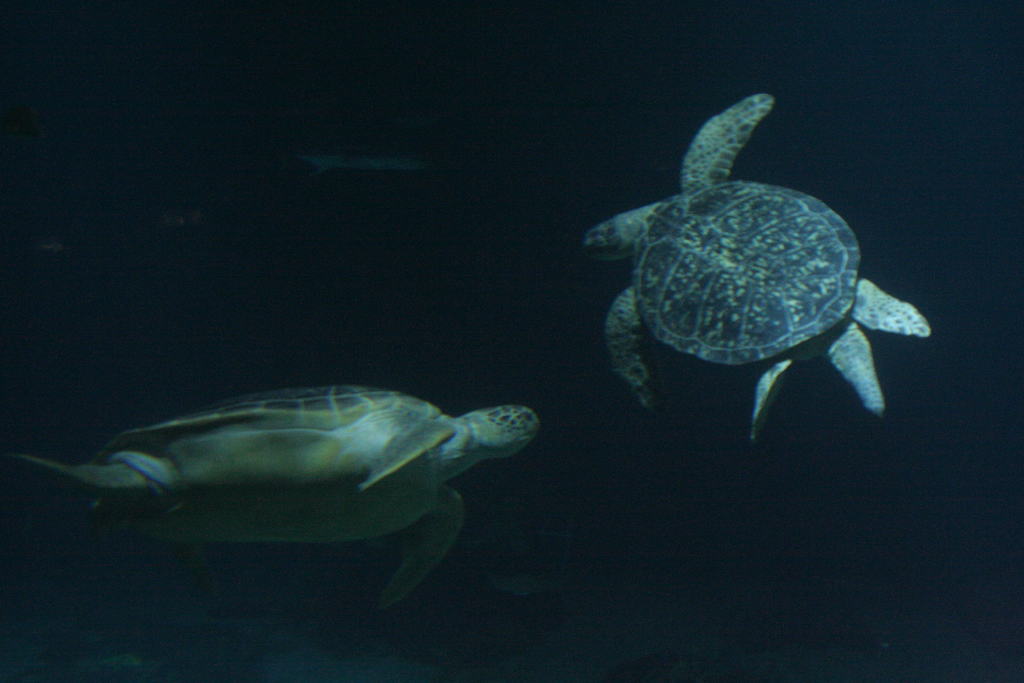Sea turtles: (568, 89, 940, 447), (0, 378, 538, 620)
